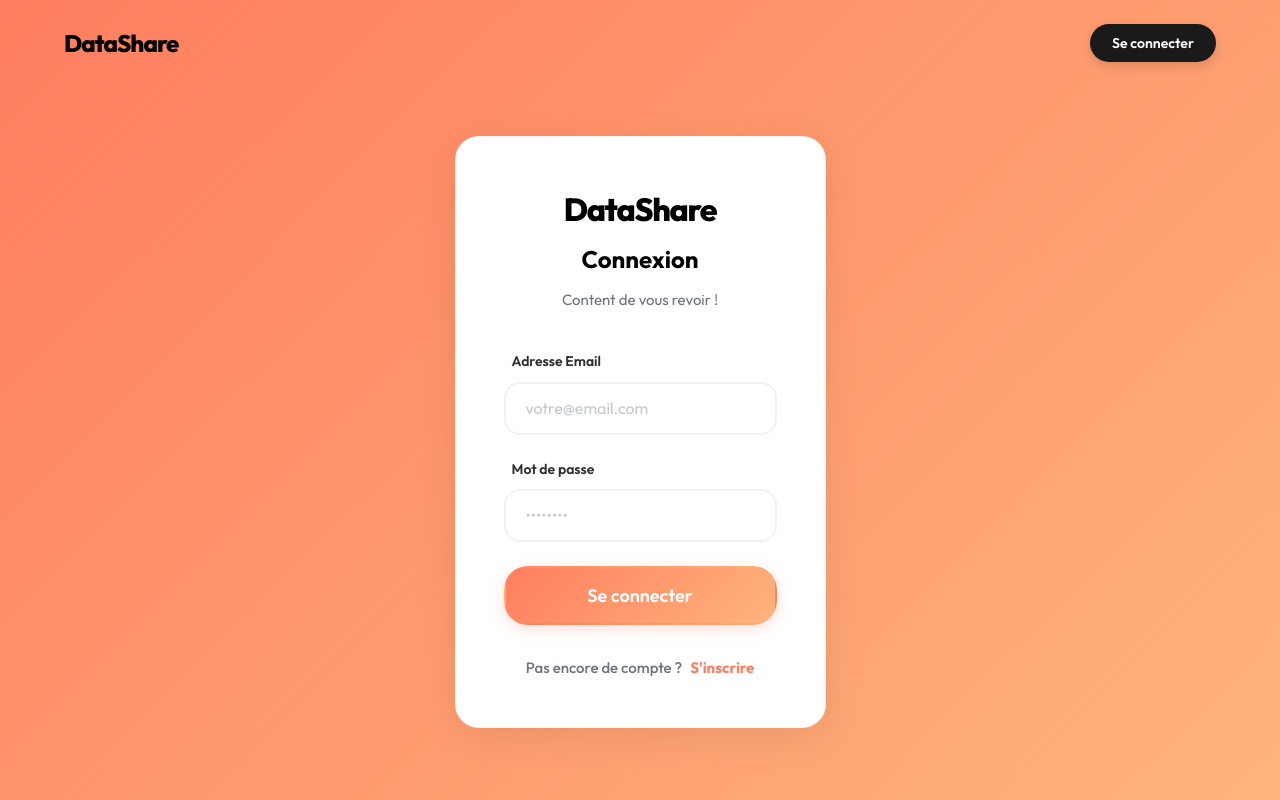
Test: Authentification › affiche une erreur avec des identifiants incorrects
The image size is (1280, 800).
Type "inexistant@test.com" into the field with placeholder "votre@email.com" at (641, 409), box x1=504 y1=382 x2=777 y2=435
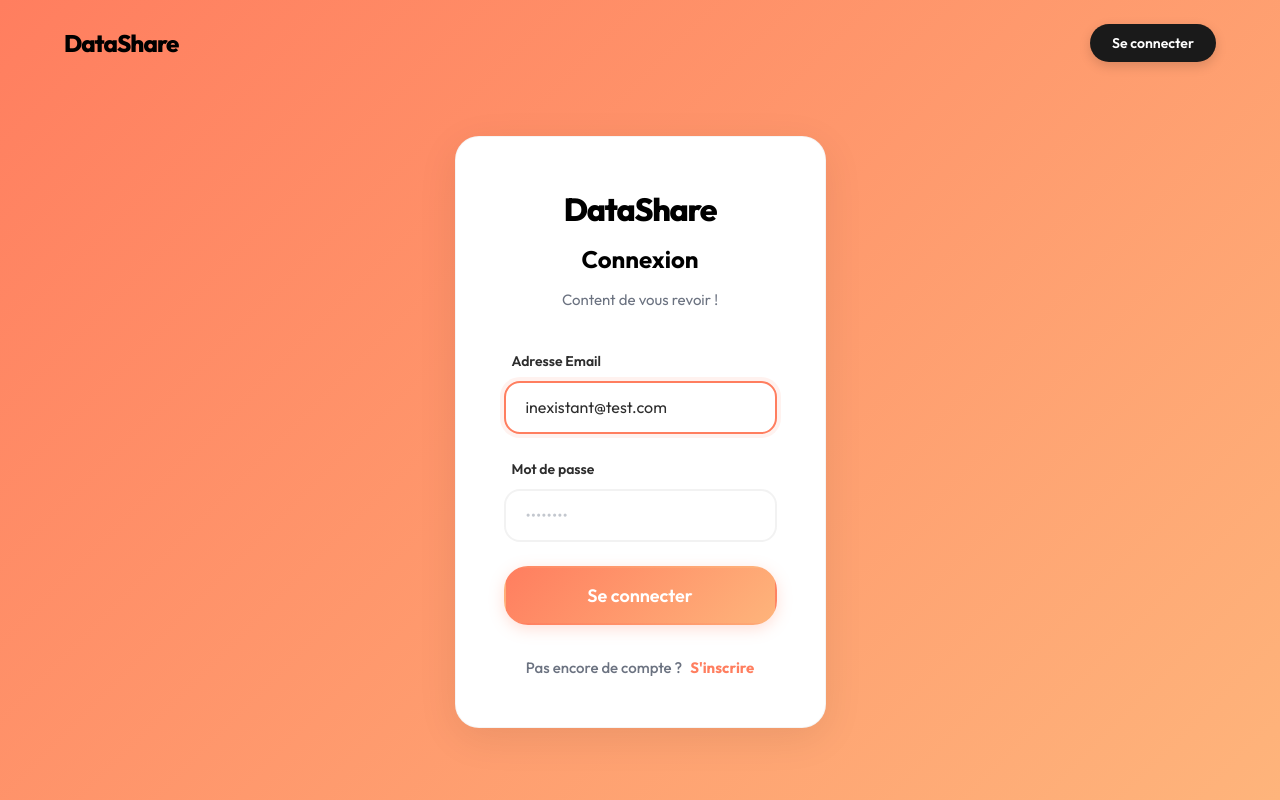
Type "mauvaismdp" into the password field with placeholder "••••••••" at (641, 516), box x1=504 y1=489 x2=777 y2=542
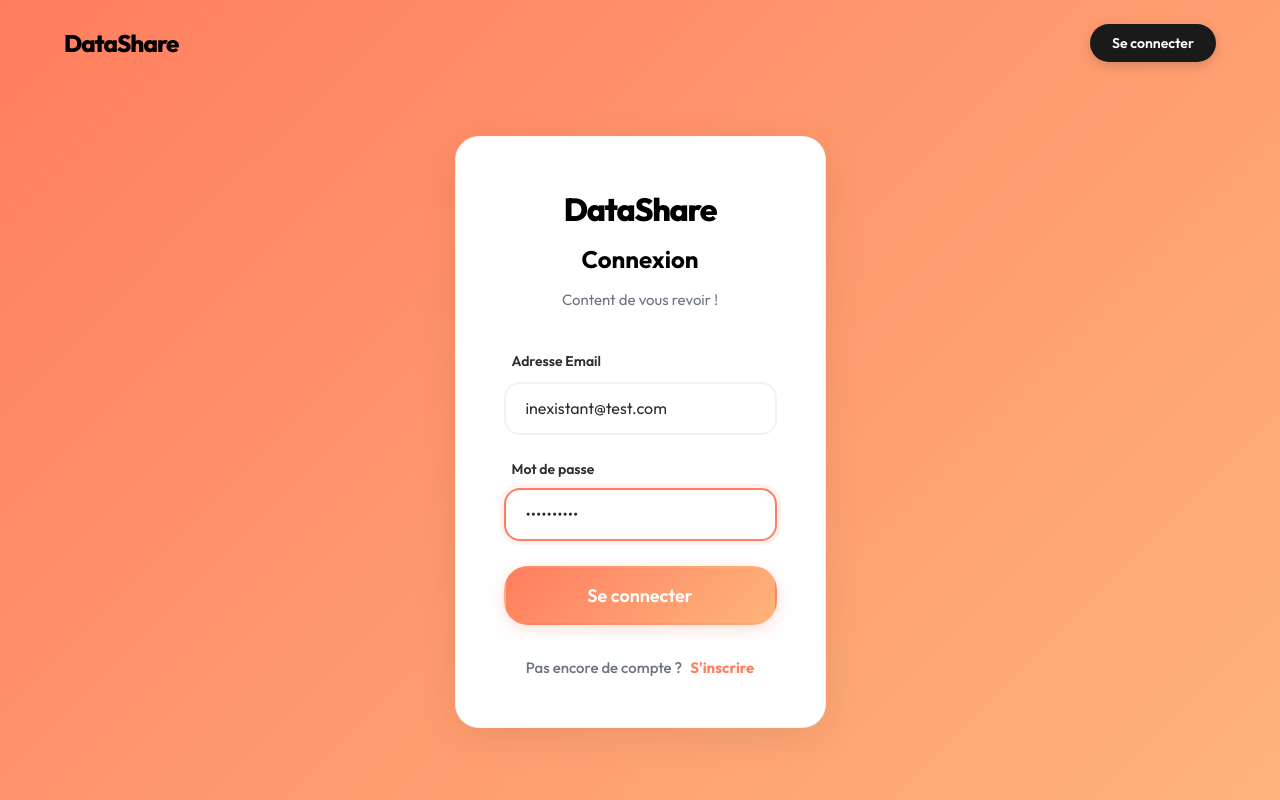
Click the submit button at (641, 596), box x1=504 y1=566 x2=777 y2=625
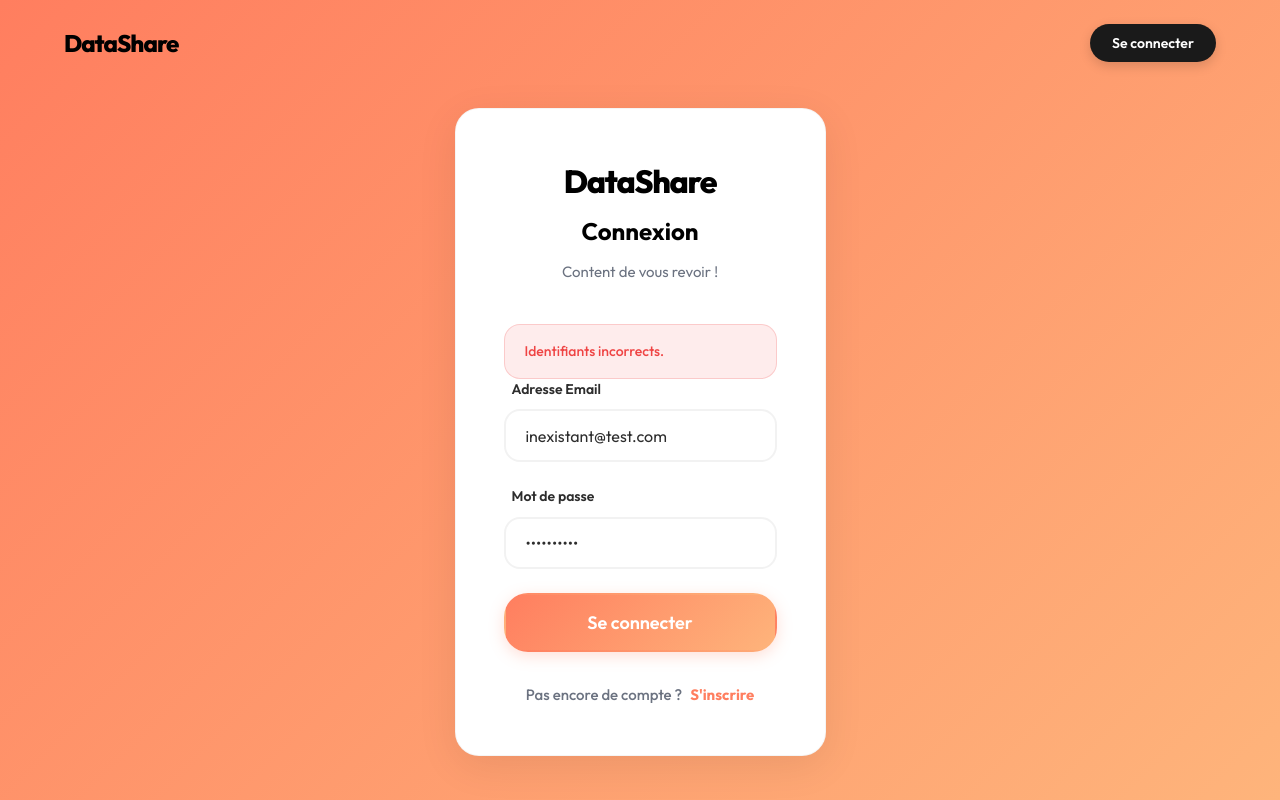
expect the text "Identifiants incorrects." is shown: met, box x1=504 y1=324 x2=776 y2=379
